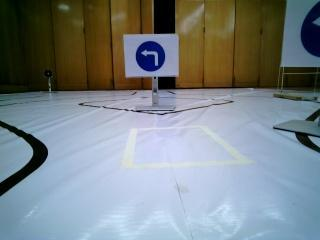left: (125, 36, 179, 75)
